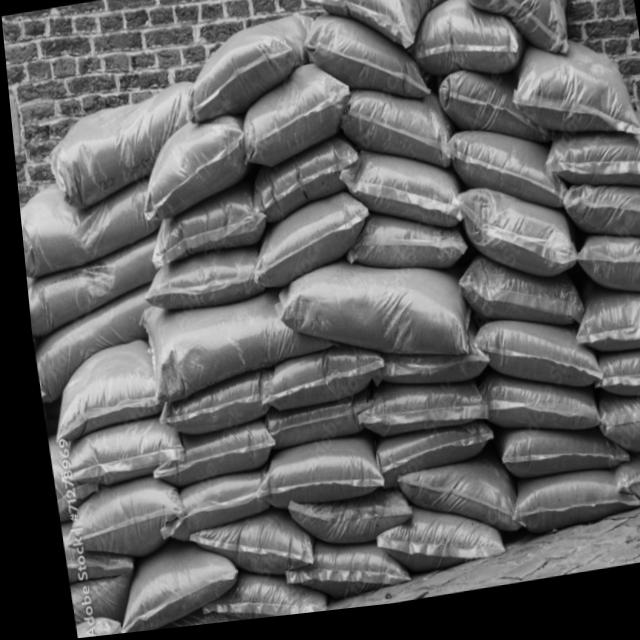sack: (265, 251, 469, 389), (132, 284, 328, 406), (36, 84, 204, 213), (502, 41, 640, 165), (175, 19, 324, 128), (14, 169, 157, 279), (23, 288, 159, 401), (298, 8, 429, 124), (19, 239, 161, 338), (229, 65, 355, 176), (331, 144, 461, 250), (452, 186, 572, 298), (97, 537, 231, 635), (448, 252, 578, 353), (130, 119, 251, 226), (464, 317, 594, 415), (238, 196, 370, 292), (295, 0, 470, 71), (443, 129, 560, 234), (332, 87, 450, 190), (385, 464, 512, 559), (36, 340, 152, 444), (50, 476, 178, 568), (360, 503, 494, 586), (406, 0, 522, 95), (239, 439, 376, 518), (176, 512, 307, 593), (269, 533, 400, 612), (337, 211, 464, 291), (139, 192, 267, 271), (432, 71, 539, 165), (452, 0, 576, 80), (473, 372, 591, 455), (496, 476, 631, 548), (243, 146, 360, 229), (485, 424, 620, 495), (45, 417, 176, 486), (275, 490, 404, 559), (134, 248, 260, 318), (249, 352, 379, 418), (345, 381, 478, 445), (185, 565, 315, 628), (362, 428, 488, 493), (139, 424, 269, 487), (537, 137, 640, 215), (143, 474, 260, 538), (149, 375, 263, 439), (556, 186, 640, 264), (372, 349, 483, 401), (567, 239, 640, 318), (563, 296, 640, 370), (254, 405, 350, 453), (58, 572, 125, 639), (585, 396, 640, 472), (582, 355, 640, 417), (599, 450, 640, 519), (54, 539, 121, 579)
